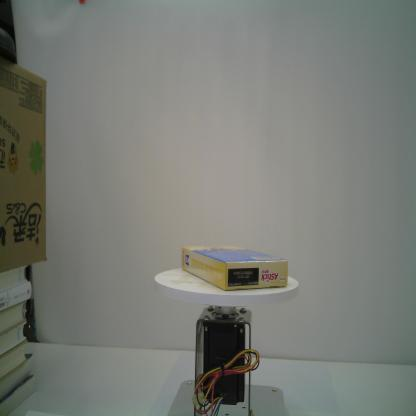Dessert: (181, 244, 290, 294)
